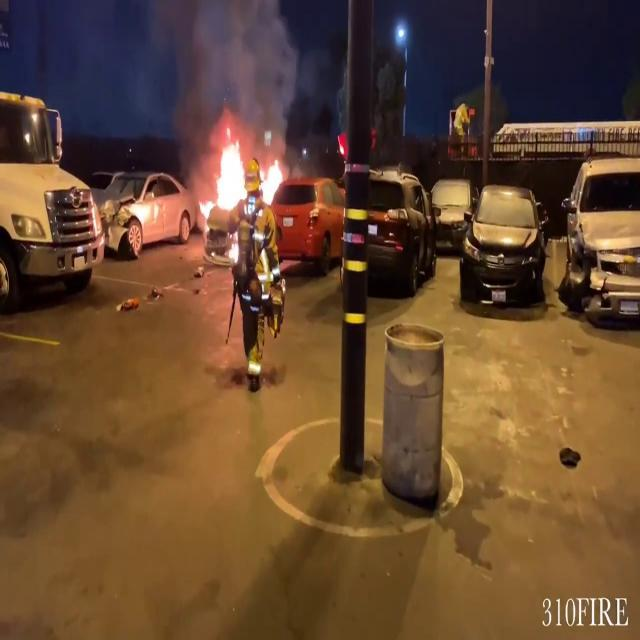Fire: (199, 128, 287, 220), (203, 131, 249, 216)
Smoke: (0, 0, 302, 138)
